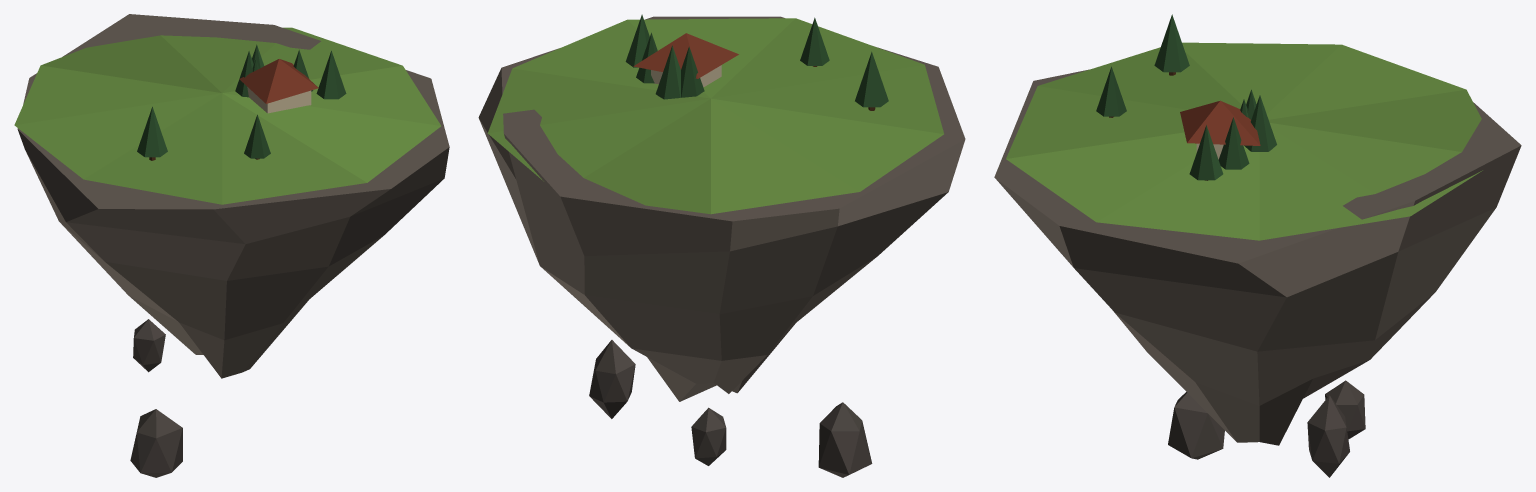
File: floating_island_1.glb
The picture shows the model from 3 angles, left to right: view 1: azimuth 30°, elevation 25°; view 2: azimuth 150°, elevation 25°; view 3: azimuth 270°, elevation 25°; orthographic projection. The views are drawn at different scales.
Visible parts, largest first — view 1: floating_island_1_grass_cap, floating_island_1_rock, floating_island_1_hanging_rock0, floating_island_1_house_roof, floating_island_1_hanging_rock1, floating_island_1_tree6_crown, floating_island_1_tree2_crown, floating_island_1_house_wall, floating_island_1_tree5_crown; view 2: floating_island_1_rock, floating_island_1_grass_cap, floating_island_1_hanging_rock0, floating_island_1_hanging_rock2, floating_island_1_house_roof, floating_island_1_hanging_rock1, floating_island_1_tree6_crown, floating_island_1_tree3_crown, floating_island_1_tree5_crown, floating_island_1_tree4_crown, floating_island_1_tree2_crown; view 3: floating_island_1_rock, floating_island_1_grass_cap, floating_island_1_hanging_rock0, floating_island_1_hanging_rock2, floating_island_1_house_roof, floating_island_1_hanging_rock1, floating_island_1_tree6_crown, floating_island_1_tree2_crown, floating_island_1_tree1_crown, floating_island_1_tree5_crown, floating_island_1_tree3_crown.
Boxes of the visible parts, box(x1,y1,x2,y2) form: floating_island_1_grass_cap: box(14, 27, 440, 204); floating_island_1_rock: box(17, 14, 449, 378); floating_island_1_hanging_rock0: box(130, 409, 182, 477); floating_island_1_house_roof: box(239, 59, 318, 103); floating_island_1_hanging_rock1: box(133, 319, 165, 372); floating_island_1_tree6_crown: box(137, 106, 167, 157); floating_island_1_tree2_crown: box(316, 50, 346, 99); floating_island_1_house_wall: box(247, 87, 311, 113); floating_island_1_tree5_crown: box(244, 114, 270, 158); floating_island_1_rock: box(478, 16, 965, 401); floating_island_1_grass_cap: box(487, 18, 943, 214); floating_island_1_hanging_rock0: box(818, 402, 872, 477); floating_island_1_hanging_rock2: box(589, 340, 635, 418); floating_island_1_house_roof: box(633, 33, 738, 78); floating_island_1_hanging_rock1: box(691, 407, 726, 465); floating_island_1_tree6_crown: box(855, 51, 888, 107); floating_island_1_tree3_crown: box(655, 45, 680, 99); floating_island_1_tree5_crown: box(800, 17, 829, 65); floating_island_1_tree4_crown: box(681, 46, 704, 97); floating_island_1_tree2_crown: box(625, 14, 649, 67); floating_island_1_rock: box(994, 69, 1521, 445); floating_island_1_grass_cap: box(1006, 42, 1482, 240); floating_island_1_hanging_rock0: box(1168, 392, 1224, 459); floating_island_1_hanging_rock2: box(1307, 395, 1349, 477); floating_island_1_house_roof: box(1180, 100, 1260, 145); floating_island_1_hanging_rock1: box(1325, 380, 1365, 439); floating_island_1_tree6_crown: box(1154, 14, 1189, 72); floating_island_1_tree2_crown: box(1189, 125, 1223, 180); floating_island_1_tree1_crown: box(1218, 117, 1249, 169); floating_island_1_tree5_crown: box(1096, 66, 1126, 116); floating_island_1_tree3_crown: box(1244, 95, 1276, 151).
Bounding box in the file's own units: 117 × 111 × 121.
